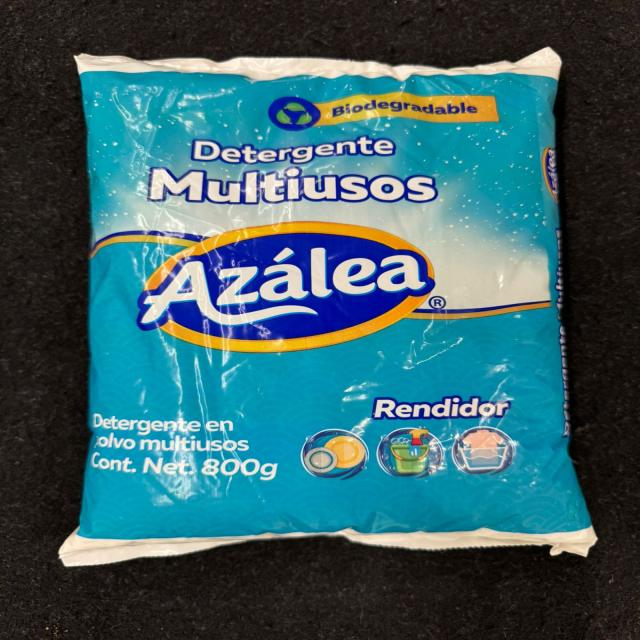DETERGENTE AZALEA MULTIUSOS 800G: (54, 46, 621, 574)
